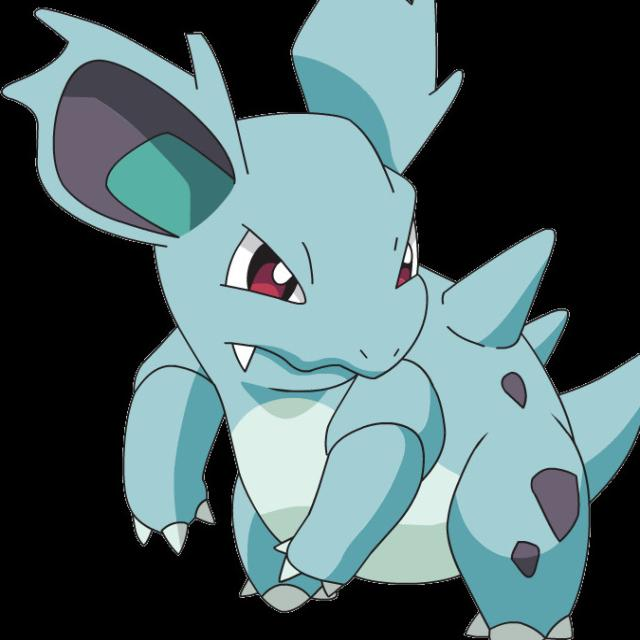Nidorina: (12, 0, 640, 624)
